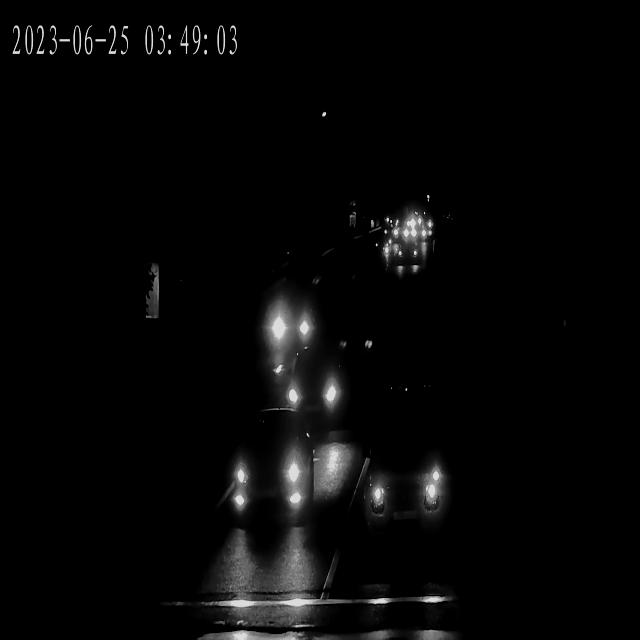Car: (222, 422, 314, 526), (357, 446, 451, 538), (283, 359, 351, 424), (262, 296, 322, 352), (394, 246, 423, 272), (398, 206, 416, 236), (388, 224, 406, 252), (414, 217, 436, 236), (411, 228, 432, 242)
